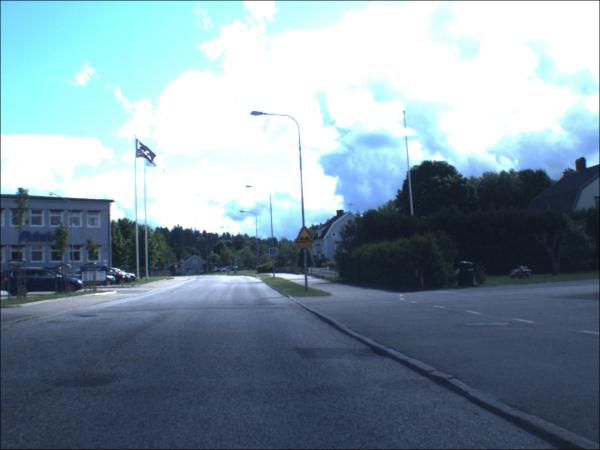WARNING: (297, 228, 316, 245)
